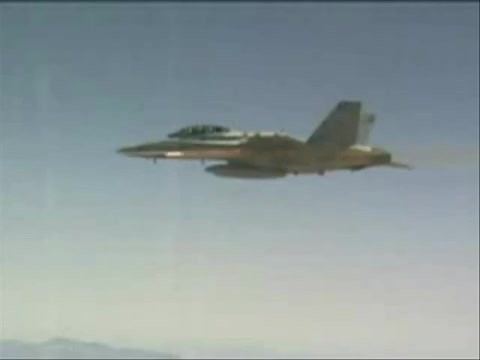aeroplane: (118, 101, 414, 182)
